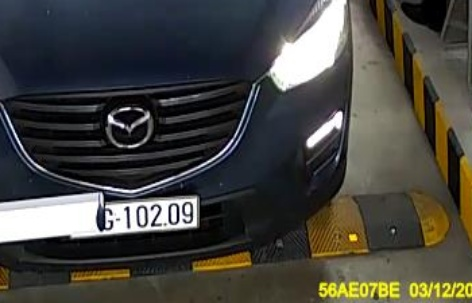plate: (69, 195, 201, 236)
